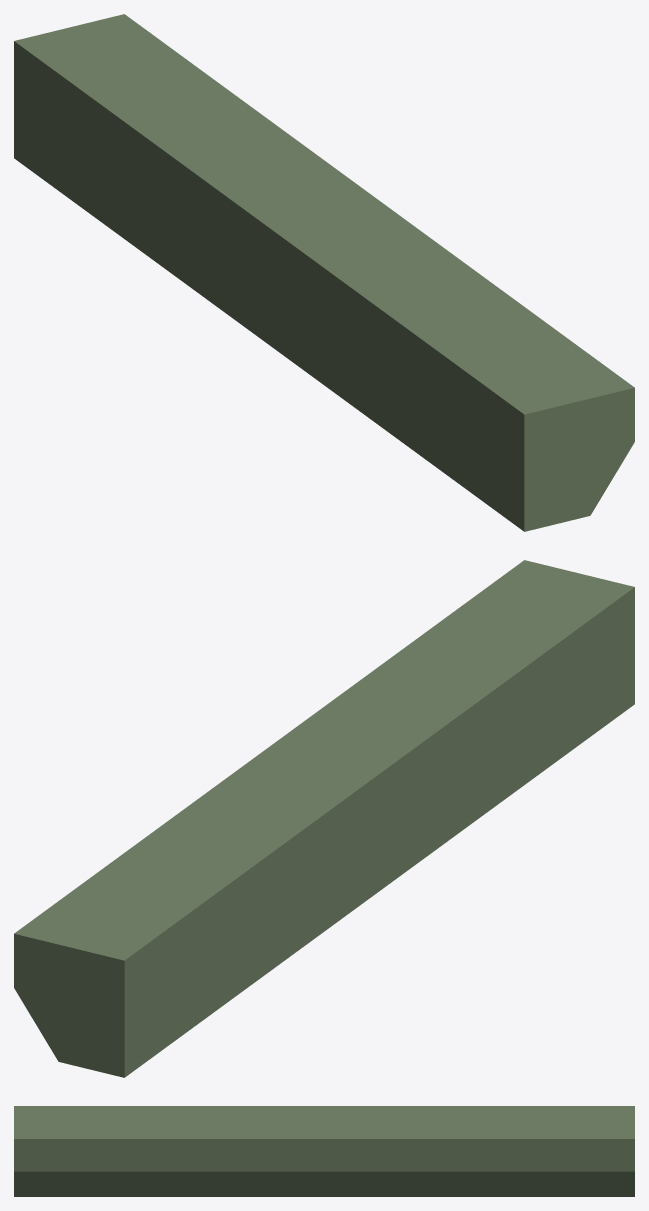
The model's file is Sm_roofTopBase_02.fbx.
3 views of the same model, one above another, from view 1: azimuth 30°, elevation 25°; view 2: azimuth 150°, elevation 25°; view 3: azimuth 270°, elevation 25° (orthographic). The views are drawn at different scales.
Parts seen in each view (by area): view 1: Sm_roofTopBase_02; view 2: Sm_roofTopBase_02; view 3: Sm_roofTopBase_02.
Boxes of the visible parts, left/top/right/bottom form: Sm_roofTopBase_02: left=14, top=14, right=634, bottom=531; Sm_roofTopBase_02: left=14, top=560, right=634, bottom=1077; Sm_roofTopBase_02: left=14, top=1106, right=634, bottom=1196.
Bounding box in the file's own units: 0.5 × 0.507 × 4.
